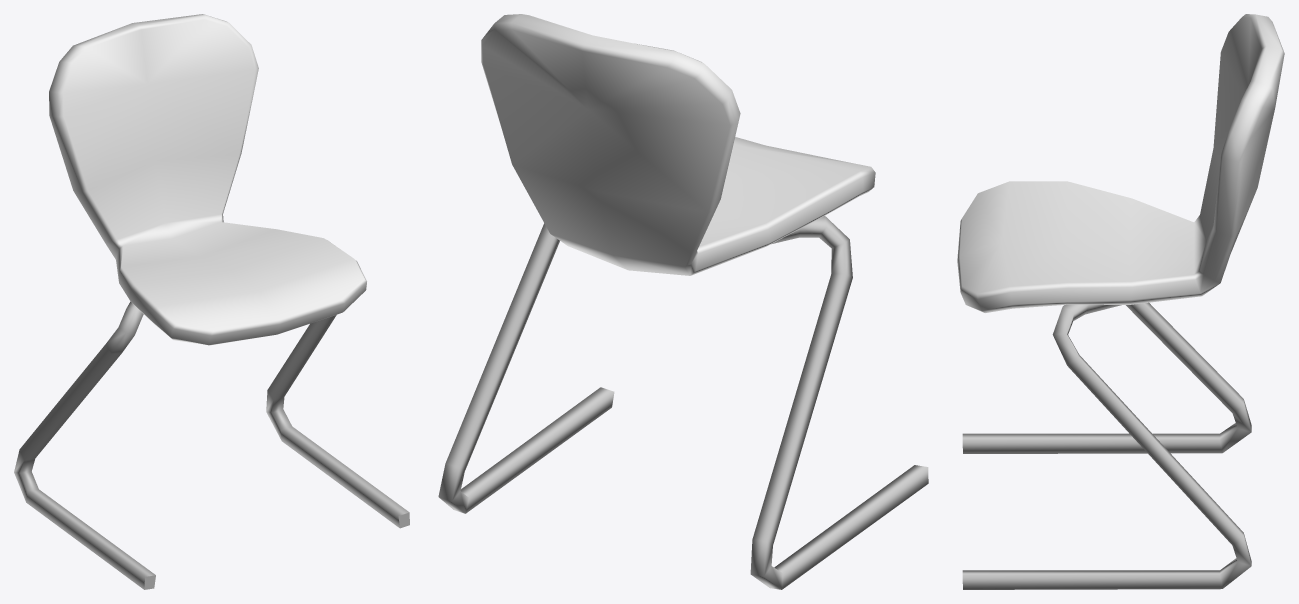
The model's file is chair_024.fbx.
3 views of the same model, side by side, from view 1: azimuth 30°, elevation 25°; view 2: azimuth 150°, elevation 25°; view 3: azimuth 270°, elevation 25° (orthographic). The views are drawn at different scales.
Visible parts, largest first — view 1: chair_024; view 2: chair_024; view 3: chair_024.
Boxes of the visible parts, x1,y1,x2,y2 form: chair_024: (14, 14, 409, 589); chair_024: (438, 14, 928, 589); chair_024: (957, 14, 1284, 589).
Size of the model in its own units: 73.19 by 71.23 by 114.
